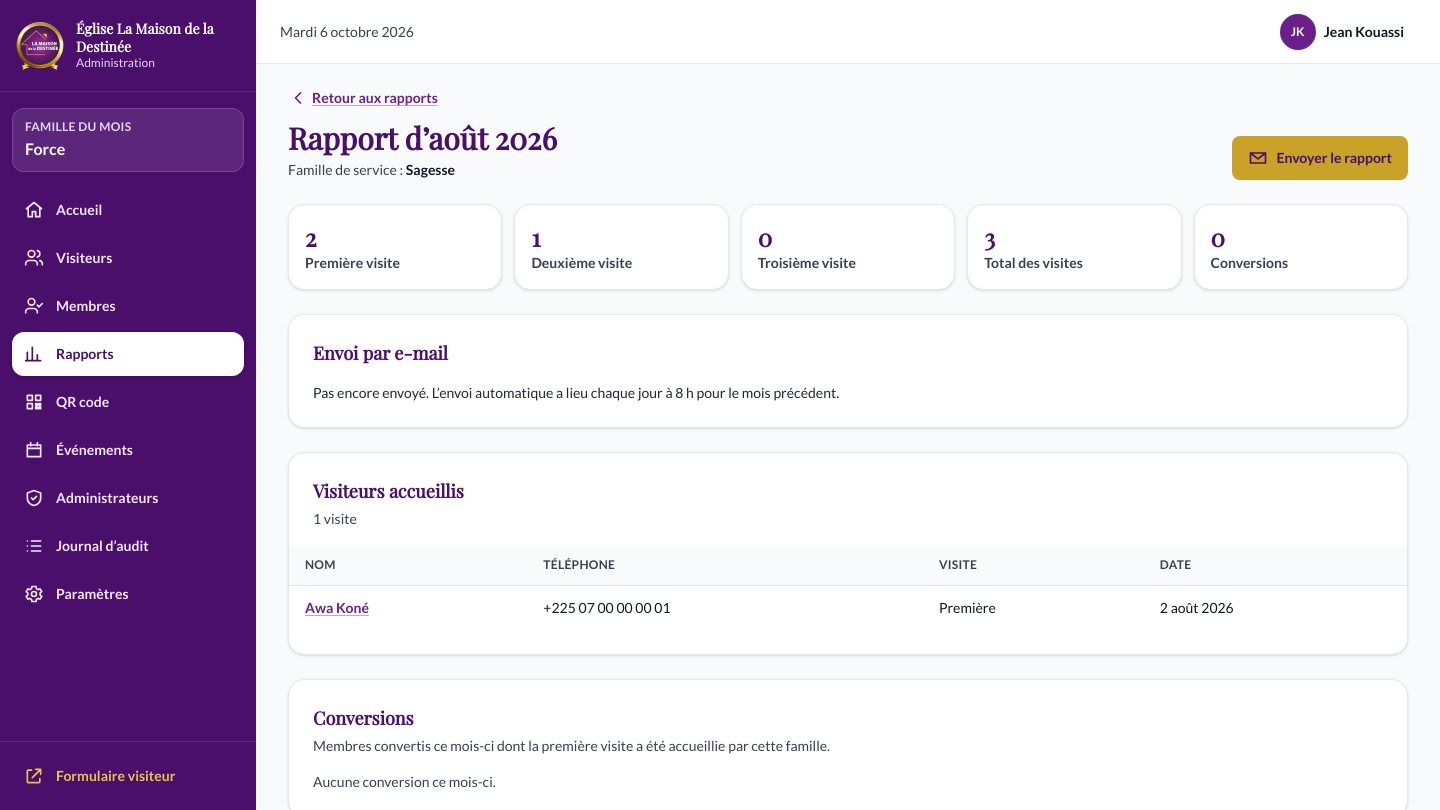
Scenario: rapports › demande une confirmation explicite puis force l’envoi si le rapport a déjà été envoyé (409)
Click the button "Envoyer le rapport". click: x=1320, y=158
box: [1232, 136, 1408, 180]
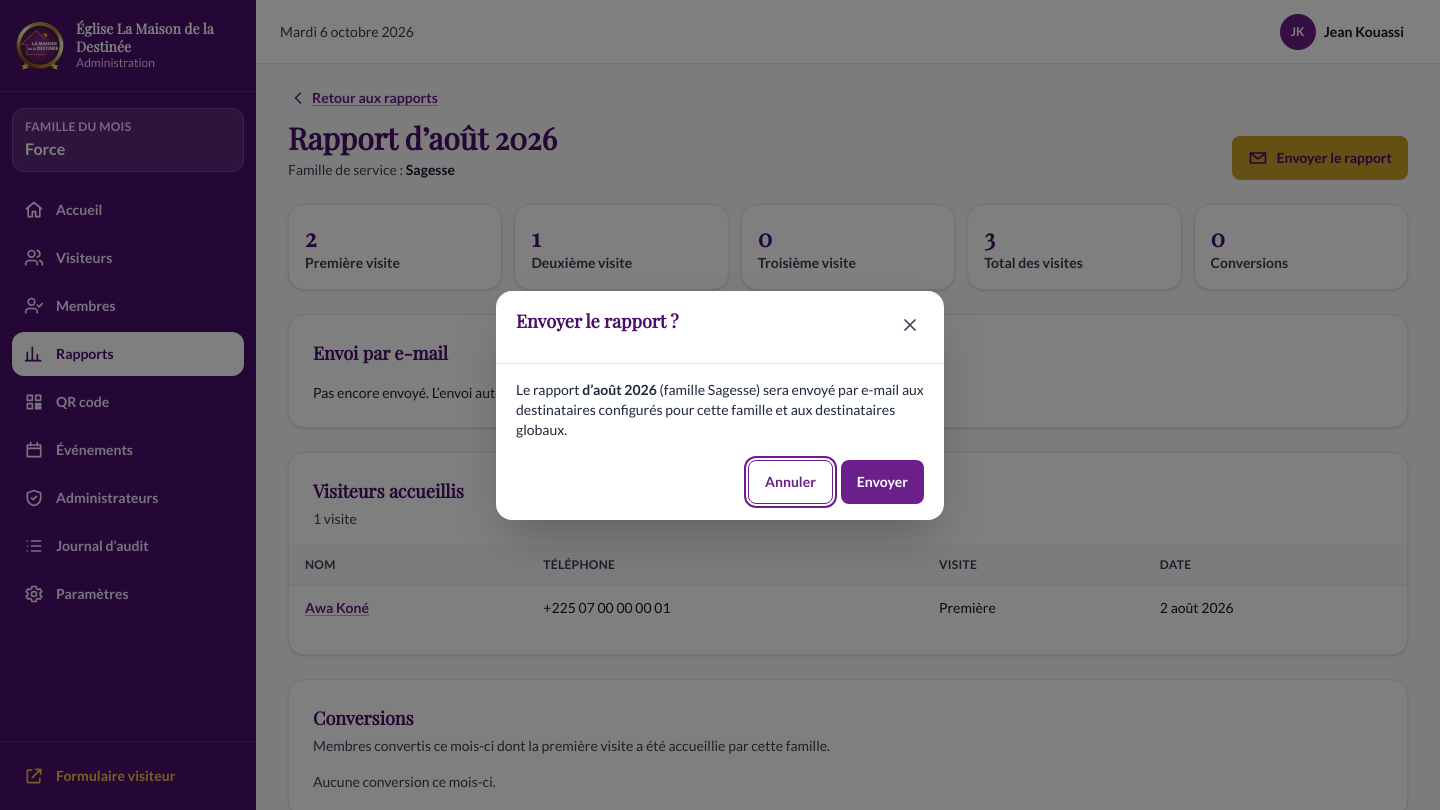
Click the button "Envoyer". click: x=882, y=482
box: [841, 460, 924, 504]
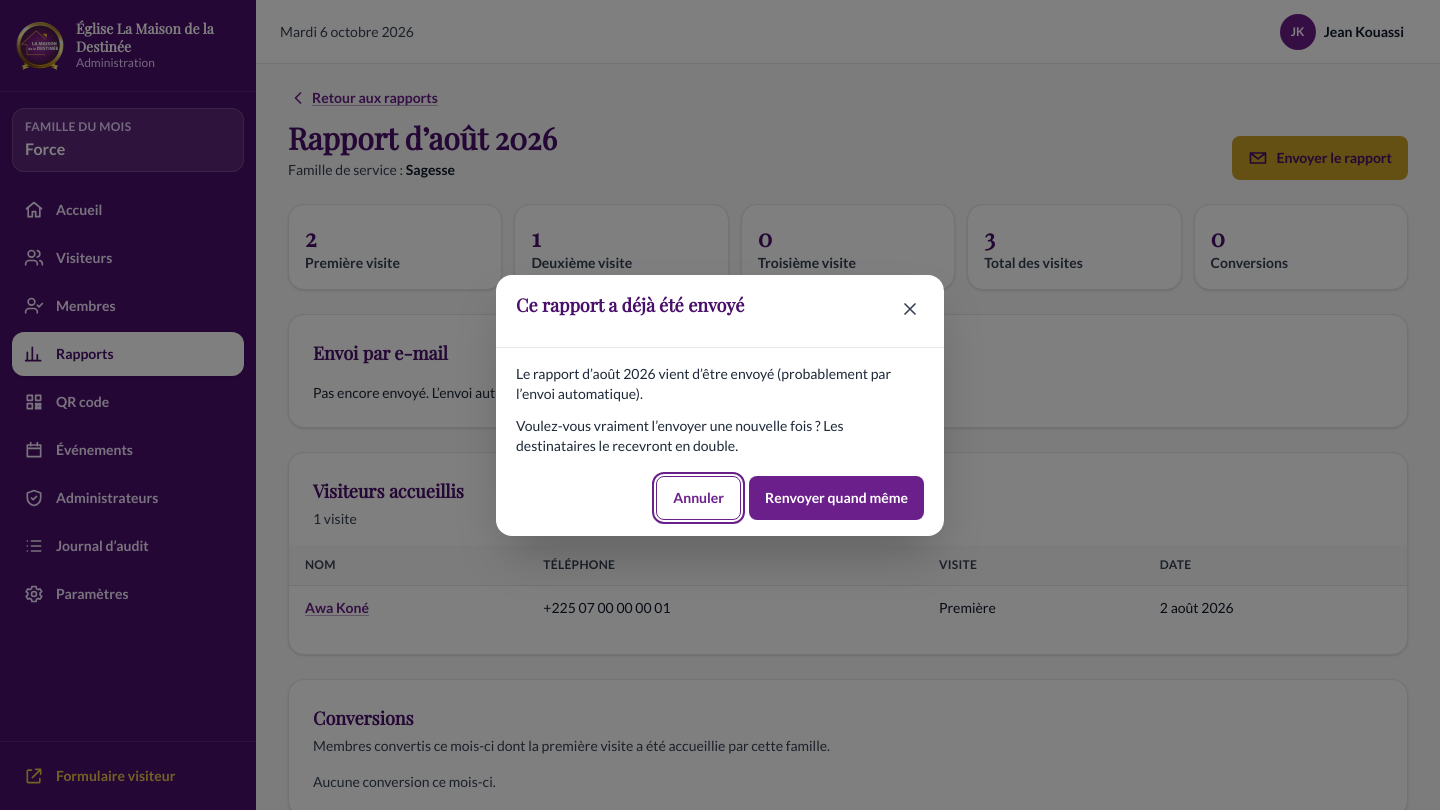
Click the button "Renvoyer quand même". click: x=837, y=498
box: [749, 476, 924, 520]
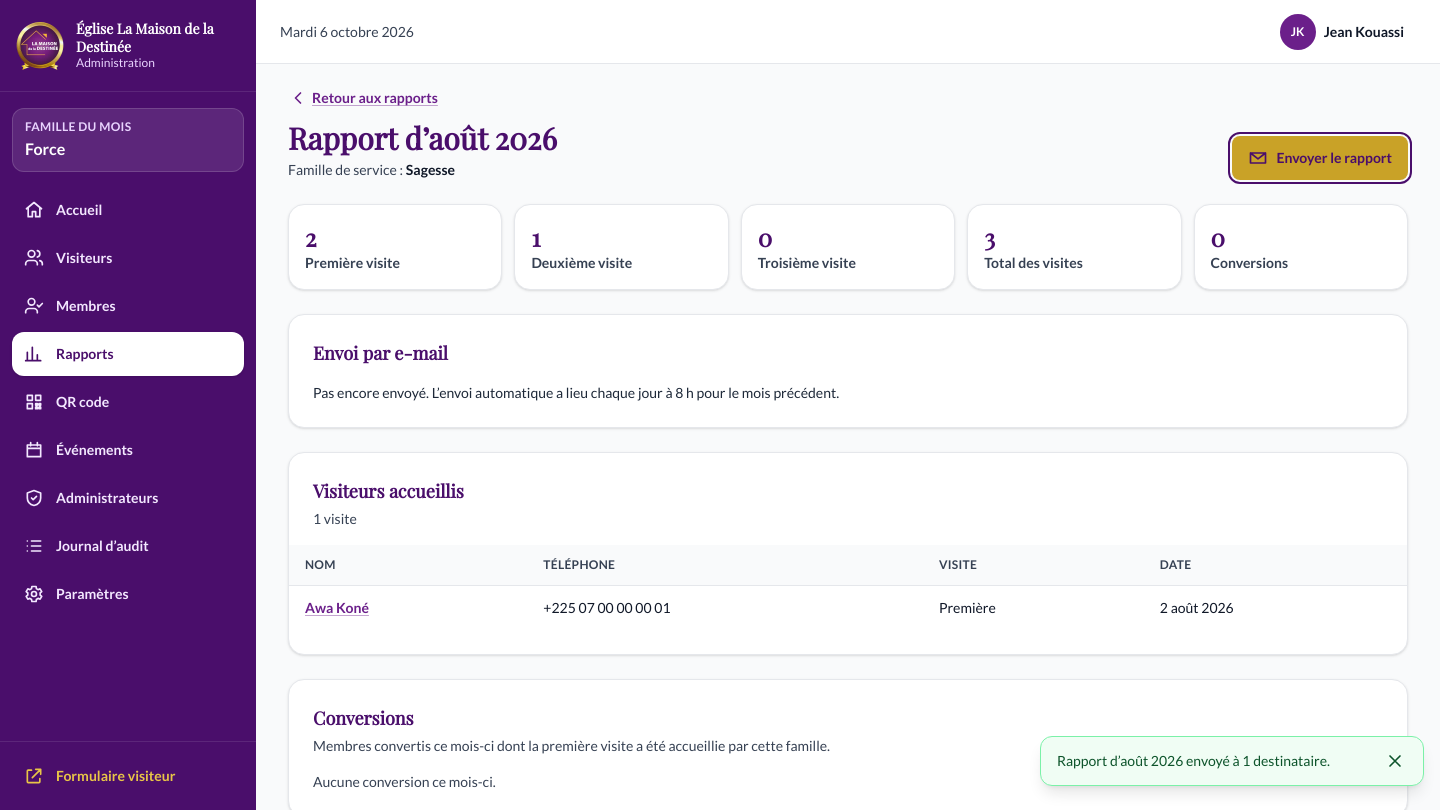
Expected: the text "Rapport d’août 2026 envoyé à 1 destinataire." is shown, [1057, 749, 1371, 771]
